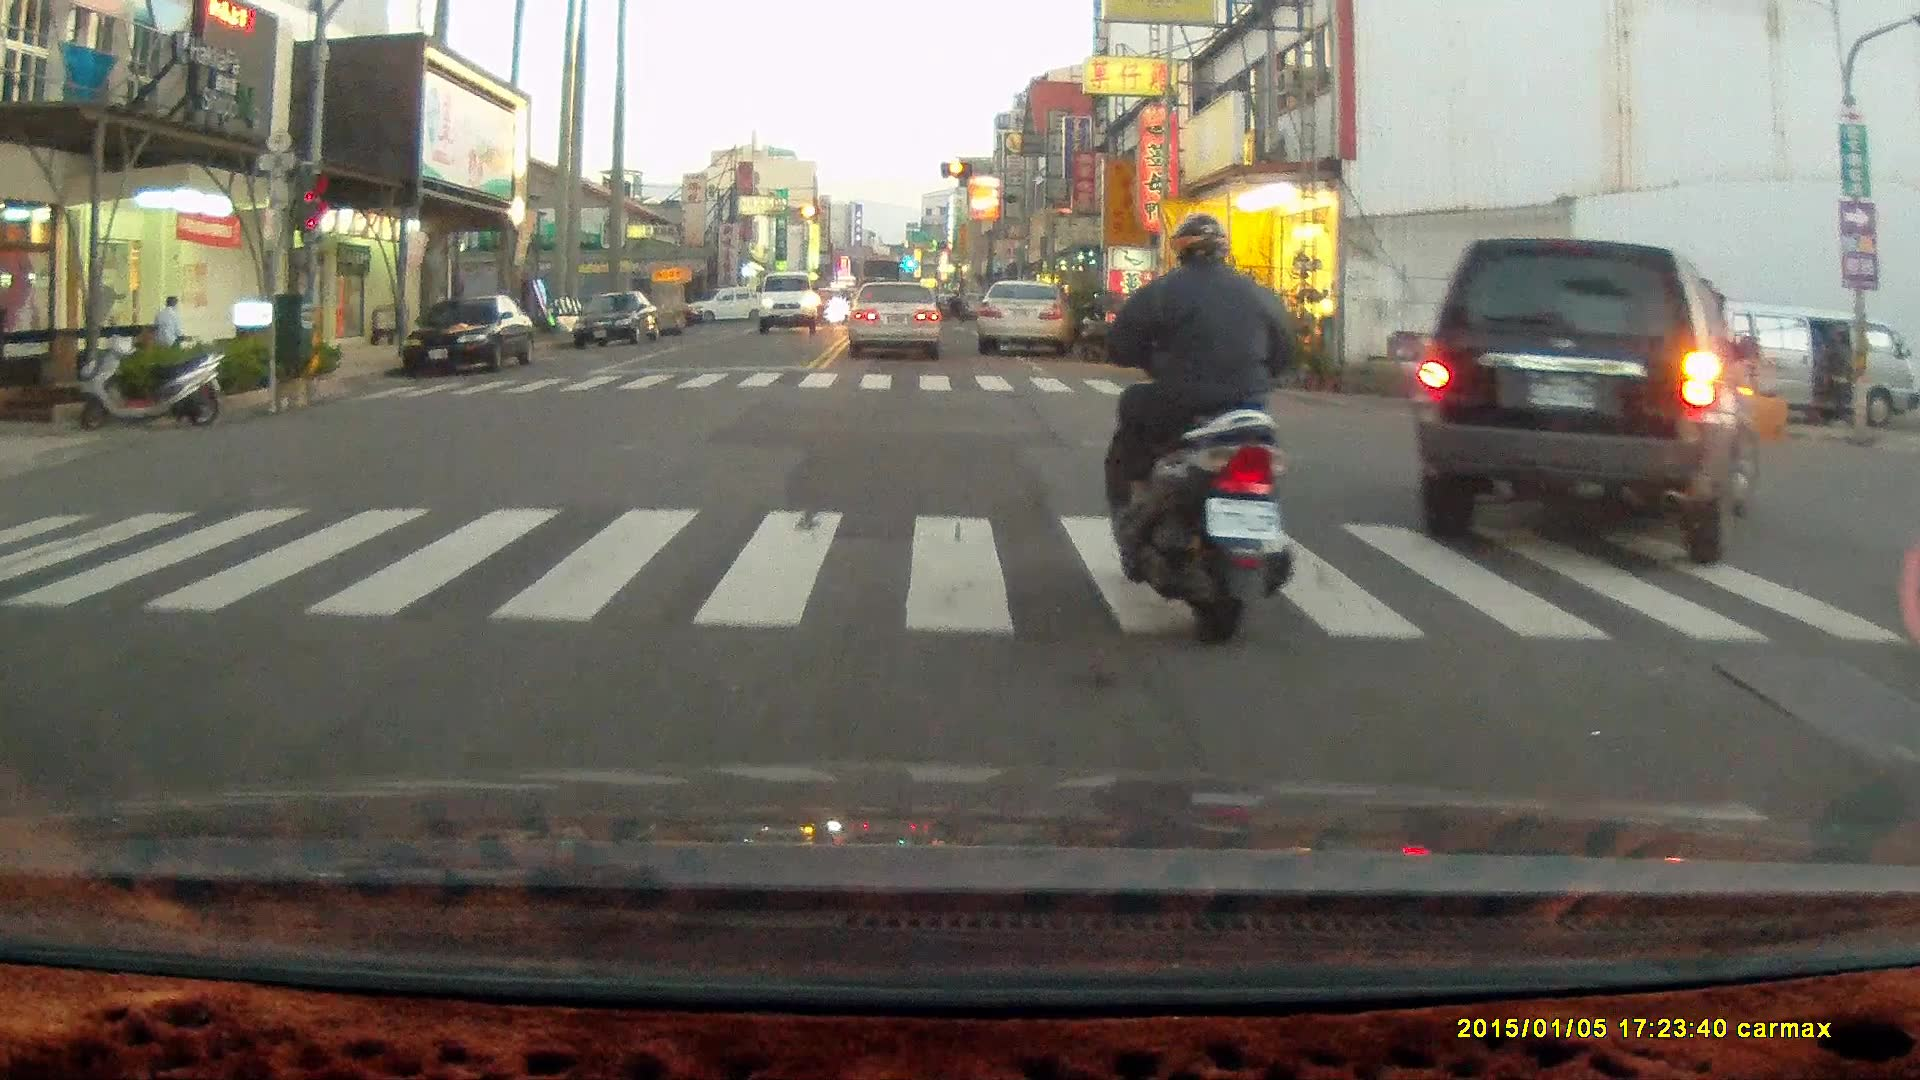pedestrian: (151, 294, 188, 362), (1829, 332, 1854, 423)
rider: (1094, 213, 1298, 649)
vehicle: (1423, 242, 1766, 567), (1682, 301, 1916, 429), (404, 303, 535, 393), (973, 276, 1077, 356), (848, 283, 943, 363), (572, 294, 662, 355), (760, 274, 822, 341)
